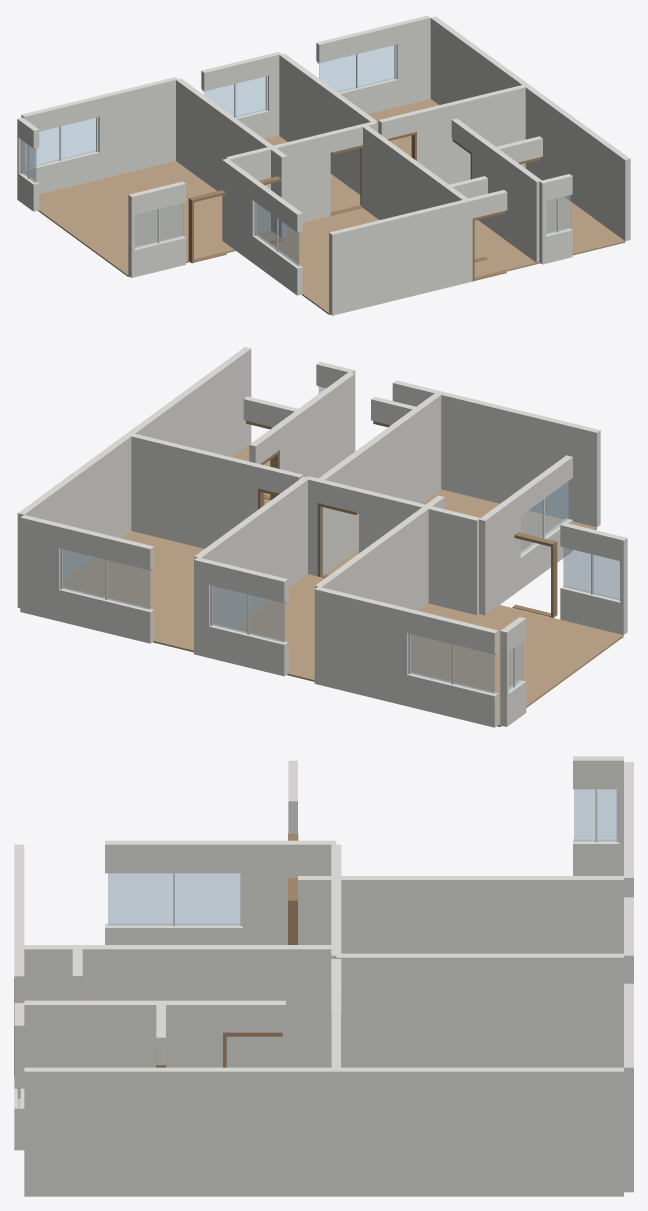
File: high_quality_architectural_875.glb
The picture shows the model from 3 angles, top to bottom: view 1: azimuth 30°, elevation 25°; view 2: azimuth 150°, elevation 25°; view 3: azimuth 270°, elevation 25°; orthographic projection. The views are drawn at different scales.
Parts seen in each view (by area): view 1: Wall_0_solid, Floor_2_living_room, Wall_12_solid, Wall_17_solid, Wall_13_solid, Wall_4_solid, Wall_20_solid, Wall_19_solid, Wall_24_solid, Wall_21_solid, Floor_0_kitchen, Wall_3_solid (+44 smaller); view 2: Wall_0_solid, Floor_2_living_room, Wall_20_solid, Wall_12_solid, Wall_17_solid, Floor_4_bedroom, Wall_19_solid, Wall_4_solid, Wall_13_solid, Wall_2_solid, Wall_24_solid, Wall_1_solid (+38 smaller); view 3: Wall_19_solid, Wall_17_solid, Wall_21_solid, Wall_13_solid, Wall_4_solid, Wall_24_solid, Window_13, Wall_1_solid, Wall_9_solid, Wall_1_lintel, Wall_8_solid, Wall_23_solid (+13 smaller).
Boxes of the visible parts, x1=… form: Wall_0_solid: x1=329, y1=199, x2=468, y2=315; Floor_2_living_room: x1=38, y1=161, x2=235, y2=276; Wall_12_solid: x1=97, y1=77, x2=178, y2=179; Wall_17_solid: x1=279, y1=53, x2=377, y2=194; Wall_13_solid: x1=176, y1=78, x2=274, y2=190; Wall_4_solid: x1=361, y1=124, x2=449, y2=219; Wall_20_solid: x1=437, y1=85, x2=525, y2=184; Wall_19_solid: x1=430, y1=16, x2=528, y2=104; Wall_24_solid: x1=580, y1=126, x2=630, y2=241; Wall_21_solid: x1=524, y1=85, x2=585, y2=208; Floor_0_kitchen: x1=258, y1=208, x2=379, y2=314; Wall_3_solid: x1=273, y1=132, x2=330, y2=222; Wall_0_solid: x1=438, y1=391, x2=600, y2=527; Floor_2_living_room: x1=411, y1=603, x2=623, y2=726; Wall_20_solid: x1=131, y1=433, x2=234, y2=548; Wall_12_solid: x1=314, y1=586, x2=410, y2=706; Wall_17_solid: x1=194, y1=476, x2=309, y2=628; Floor_4_bedroom: x1=63, y1=531, x2=204, y2=652; Wall_19_solid: x1=17, y1=433, x2=132, y2=607; Wall_4_solid: x1=317, y1=408, x2=420, y2=574; Wall_13_solid: x1=315, y1=507, x2=429, y2=610; Wall_2_solid: x1=425, y1=505, x2=480, y2=615; Wall_24_solid: x1=193, y1=347, x2=251, y2=457; Wall_1_solid: x1=479, y1=493, x2=520, y2=615; Wall_19_solid: x1=336, y1=1067, x2=623, y2=1196; Wall_17_solid: x1=336, y1=953, x2=623, y2=1067; Wall_21_solid: x1=161, y1=1067, x2=336, y2=1196; Wall_13_solid: x1=341, y1=876, x2=623, y2=953; Wall_4_solid: x1=77, y1=945, x2=336, y2=1067; Wall_24_solid: x1=24, y1=1067, x2=160, y2=1196; Window_13: x1=108, y1=873, x2=240, y2=925; Wall_1_solid: x1=243, y1=840, x2=336, y2=944; Wall_9_solid: x1=77, y1=1000, x2=160, y2=1067; Wall_1_lintel: x1=105, y1=840, x2=242, y2=872; Wall_8_solid: x1=161, y1=1000, x2=222, y2=1067; Wall_23_solid: x1=24, y1=1000, x2=77, y2=1067.
Size of the model in its own units: 14.62 by 2.75 by 12.15.
